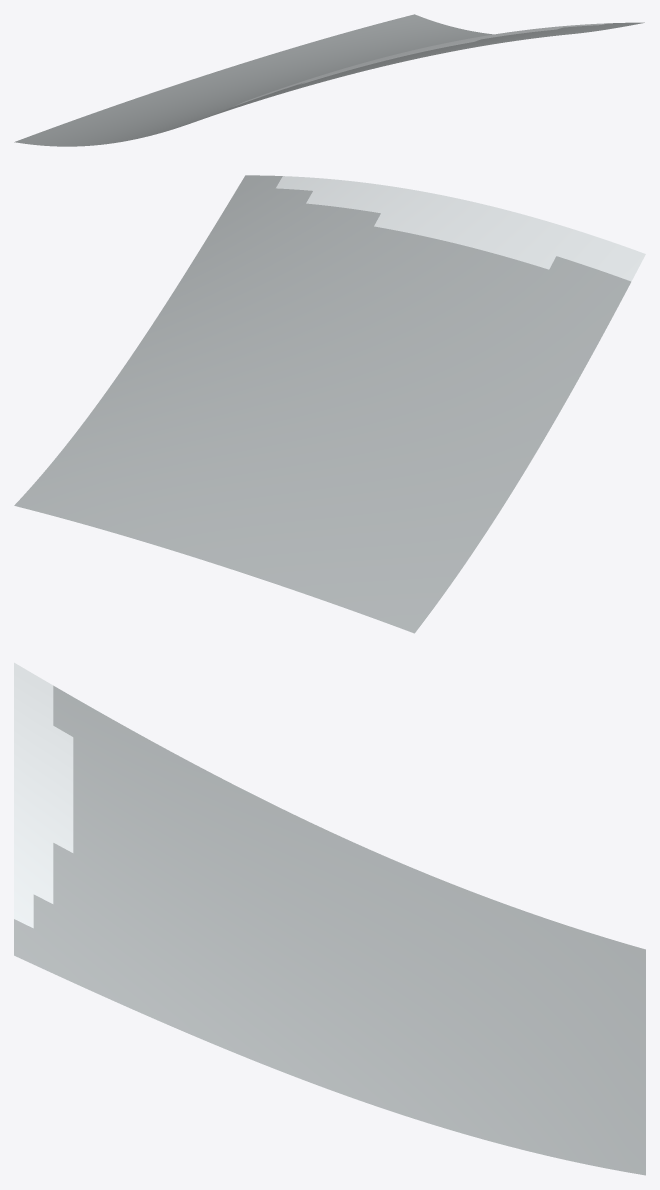
File: alpine-8-4.glb
3 views of the same model, one above another, from view 1: azimuth 30°, elevation 25°; view 2: azimuth 150°, elevation 25°; view 3: azimuth 270°, elevation 25° (orthographic). The views are drawn at different scales.
Visible parts, largest first — view 1: alpine-8-4; view 2: alpine-8-4; view 3: alpine-8-4.
Part boxes in pixels (bbox=[...]): alpine-8-4: bbox=[14, 14, 644, 146]; alpine-8-4: bbox=[14, 175, 645, 633]; alpine-8-4: bbox=[14, 662, 645, 1175].
Size of the model in its own units: 256 by 135 by 256.
2 materials, 2 textured.
